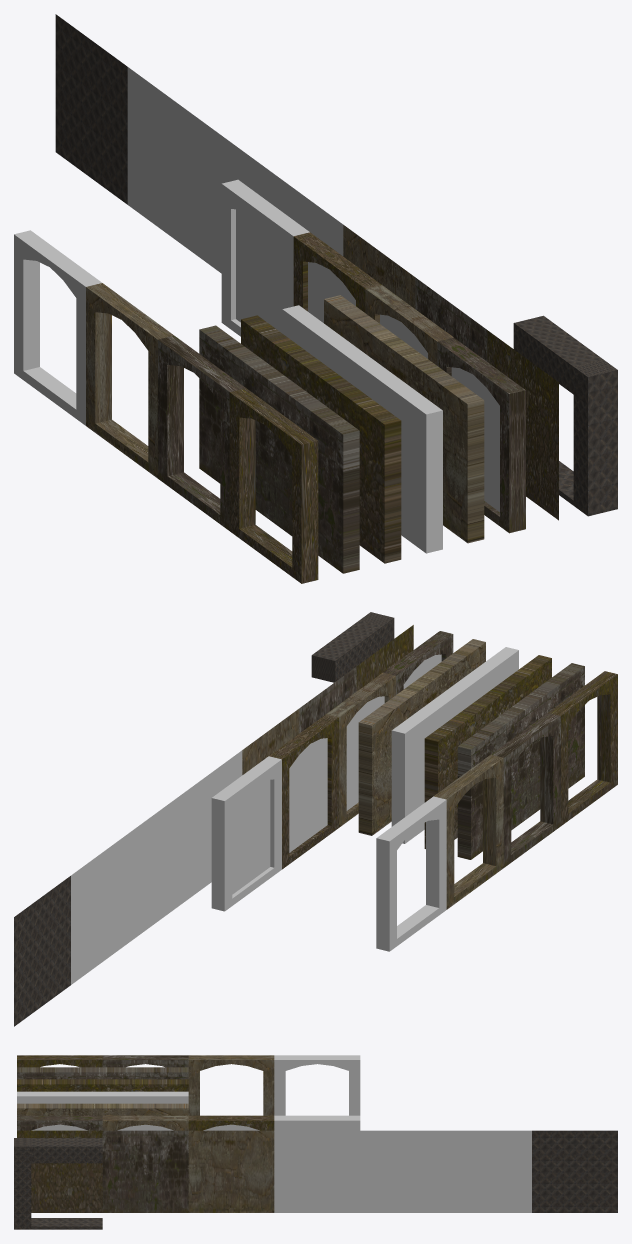
The model's file is Colosseum V1.fbx.
3 renders of one model, top to bottom at view 1: azimuth 30°, elevation 25°; view 2: azimuth 150°, elevation 25°; view 3: azimuth 270°, elevation 25°, orthographic. The views are drawn at different scales.
Parts seen in each view (by area): view 1: Wall.001, Wall, Wall.002, Wall.003, Wall Plane.005, Wall Plane.006, Open Wall.001, Wall2.003, Wall2, Open Wall, Open Wall.002, Open Wall.003 (+9 smaller); view 2: Wall.001, Wall2.003, Wall.003, Wall2.002, Wall.002, Wall Plane.004, Wall Plane.005, Wall Plane.006, Open Wall.003, Wall, Open Wall.002, Open Wall (+8 smaller); view 3: Wall Plane.001, Wall Plane.003, Wall Plane.004, Wall Plane.002, Wall Plane.005, Wall Plane.006, Wall Plane, Wall, Wall.001, Wall.002, Wall.003, Open Wall.002 (+10 smaller).
Boxes of the visible parts, left/top/right/bottom form: Wall.001: left=199, top=325, right=359, bottom=573; Wall: left=241, top=315, right=401, bottom=563; Wall.002: left=282, top=305, right=442, bottom=553; Wall.003: left=324, top=295, right=484, bottom=543; Wall Plane.005: left=127, top=67, right=199, bottom=257; Wall Plane.006: left=55, top=14, right=127, bottom=204; Open Wall.001: left=229, top=388, right=318, bottom=583; Wall2.003: left=221, top=179, right=309, bottom=336; Wall2: left=437, top=337, right=525, bottom=533; Open Wall: left=158, top=335, right=245, bottom=530; Open Wall.002: left=86, top=283, right=173, bottom=478; Open Wall.003: left=14, top=230, right=101, bottom=425; Wall.001: left=457, top=663, right=584, bottom=859; Wall2.003: left=211, top=756, right=281, bottom=911; Wall.003: left=358, top=639, right=485, bottom=835; Wall2.002: left=269, top=714, right=338, bottom=869; Wall.002: left=391, top=647, right=518, bottom=843; Wall Plane.004: left=128, top=792, right=185, bottom=942; Wall Plane.005: left=71, top=834, right=128, bottom=984; Wall Plane.006: left=14, top=876, right=70, bottom=1026; Open Wall.003: left=376, top=796, right=446, bottom=951; Wall: left=424, top=655, right=551, bottom=848; Open Wall.002: left=434, top=754, right=503, bottom=909; Open Wall: left=491, top=713, right=560, bottom=867; Wall Plane.001: left=102, top=1130, right=188, bottom=1212; Wall Plane.003: left=274, top=1130, right=360, bottom=1212; Wall Plane.004: left=360, top=1130, right=446, bottom=1212; Wall Plane.002: left=188, top=1130, right=274, bottom=1212; Wall Plane.005: left=446, top=1130, right=531, bottom=1212; Wall Plane.006: left=532, top=1130, right=617, bottom=1212; Wall Plane: left=17, top=1130, right=102, bottom=1212; Wall: left=17, top=1079, right=188, bottom=1091; Wall.001: left=17, top=1067, right=188, bottom=1079; Wall.002: left=17, top=1091, right=188, bottom=1103; Wall.003: left=17, top=1103, right=188, bottom=1115; Open Wall.002: left=188, top=1055, right=274, bottom=1115.
Bounding box in the file's own units: 756 × 320 × 2110.
